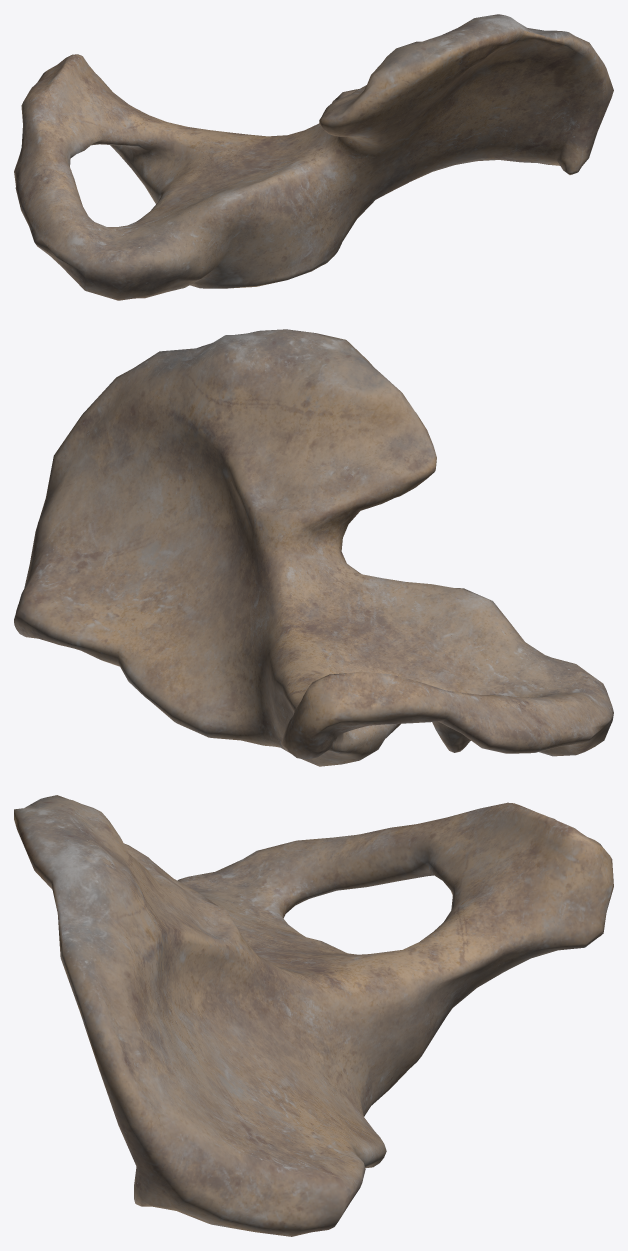
Rendered from low_poly_human_pelvis_bone.glb.
The picture shows the model from 3 angles, top to bottom: view 1: azimuth 30°, elevation 25°; view 2: azimuth 150°, elevation 25°; view 3: azimuth 270°, elevation 25°; orthographic projection. The views are drawn at different scales.
Parts seen in each view (by area): view 1: Human_Pelvis_Bone_low; view 2: Human_Pelvis_Bone_low; view 3: Human_Pelvis_Bone_low.
Part boxes in pixels (left/top/right/bottom): Human_Pelvis_Bone_low: left=14, top=14, right=613, bottom=300; Human_Pelvis_Bone_low: left=14, top=329, right=613, bottom=766; Human_Pelvis_Bone_low: left=14, top=795, right=613, bottom=1236.
Bounding box in the file's own units: 0.492 × 0.2347 × 0.344.
1 material, 1 textured.
